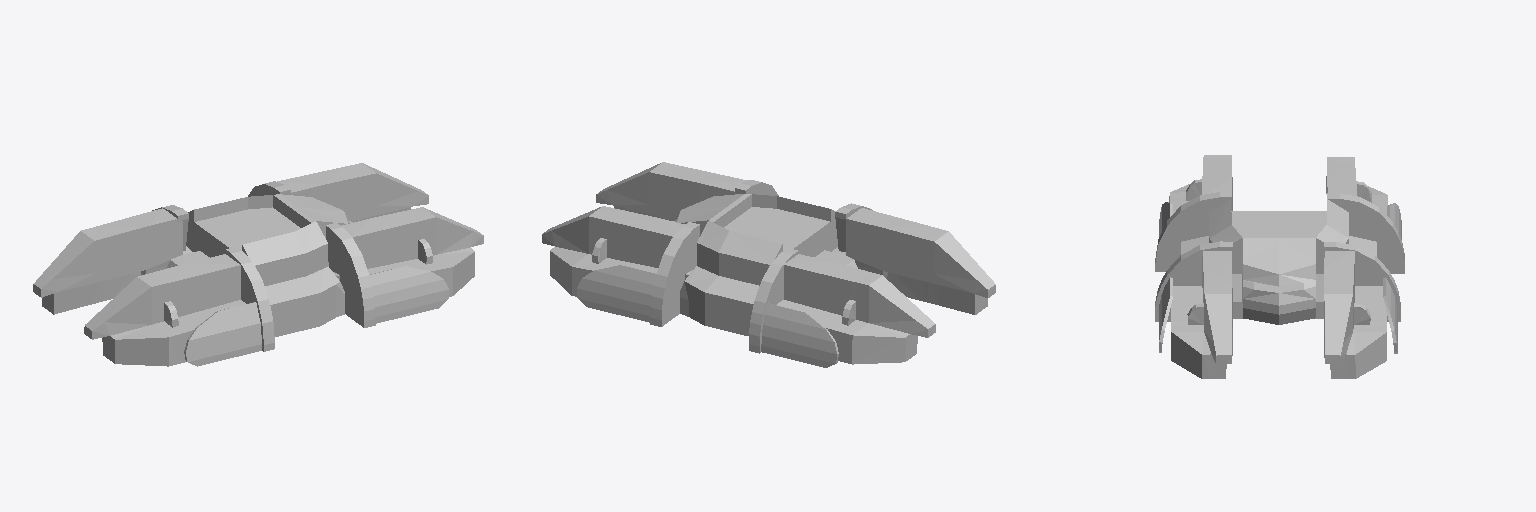
File: Zephyr.obj
The picture shows the model from 3 angles: view 1: azimuth 30°, elevation 25°; view 2: azimuth 150°, elevation 25°; view 3: azimuth 270°, elevation 25°; orthographic projection.
Size of the model in its own units: 12.44 by 2.34 by 6.88.